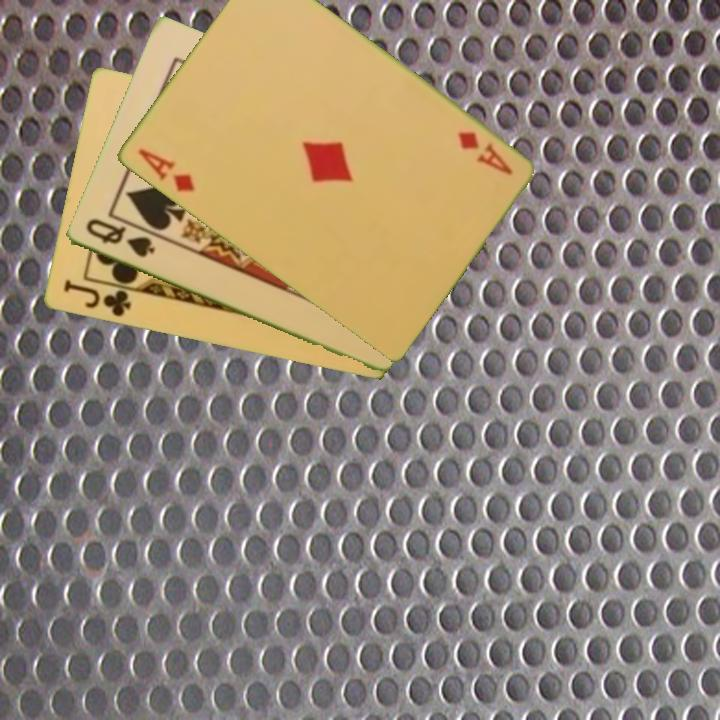Ad: (133, 145, 197, 196), (453, 128, 515, 178)
Jc: (59, 276, 134, 320)
Qs: (82, 215, 158, 261)
